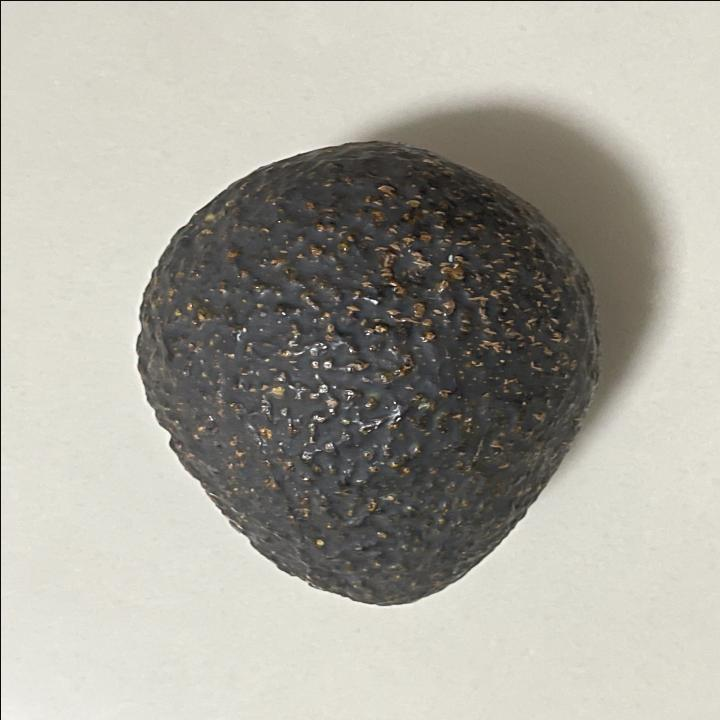Level2: (126, 134, 608, 615)
